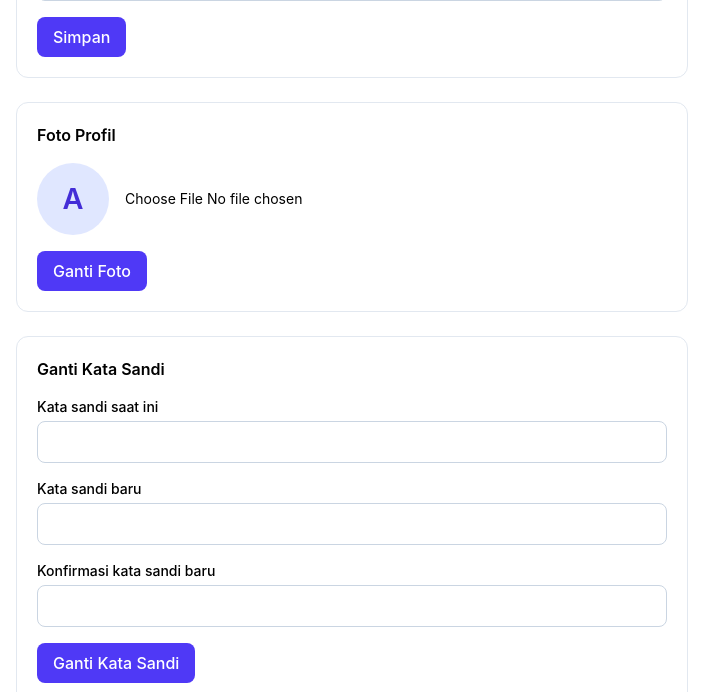
Test: kata sandi › menolak isian kosong
The width and height of the screenshot is (705, 692).
(page scrolled)
Click the button "Ganti Kata Sandi" at (116, 663), box [37,643,195,683]
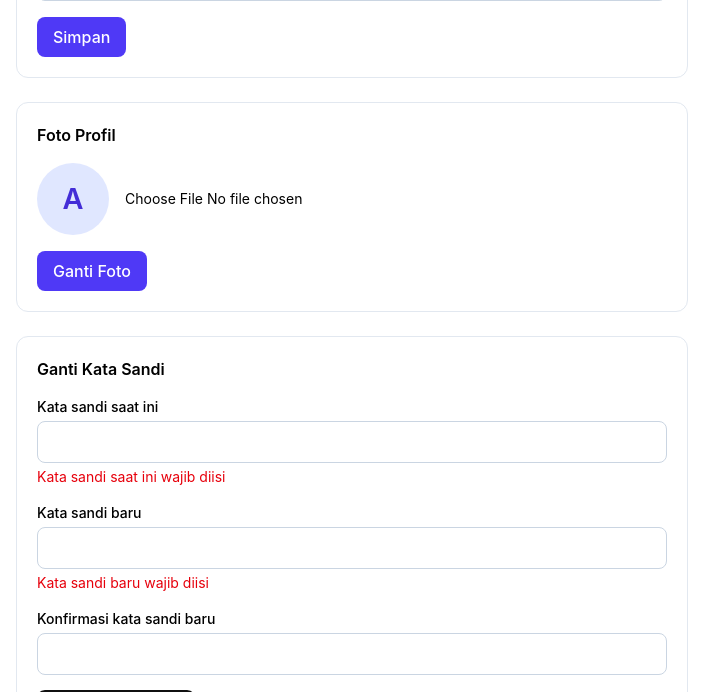
expect the text "Kata sandi saat ini wajib diisi" is shown: met, box [37,468,226,485]
expect the text "Kata sandi baru wajib diisi" is shown: met, box [37,574,209,591]
